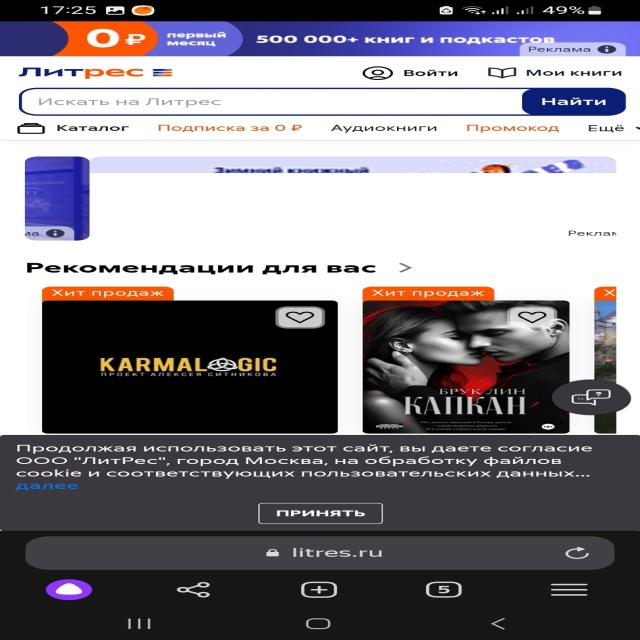button: (261, 504, 382, 525)
site: (0, 434, 640, 532)
